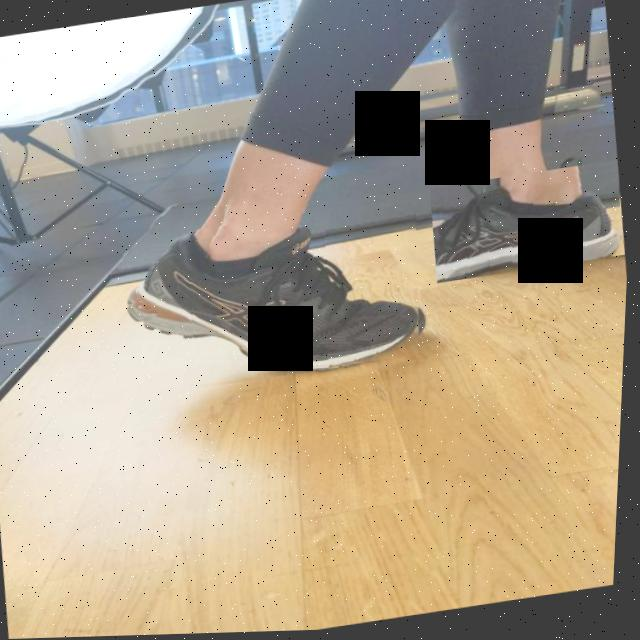shoe: (119, 198, 437, 400), (428, 163, 630, 286)
